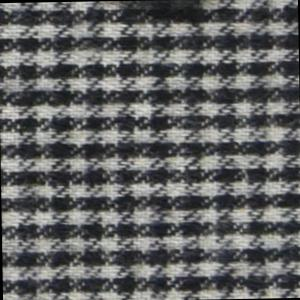Stain: (124, 1, 209, 30)
